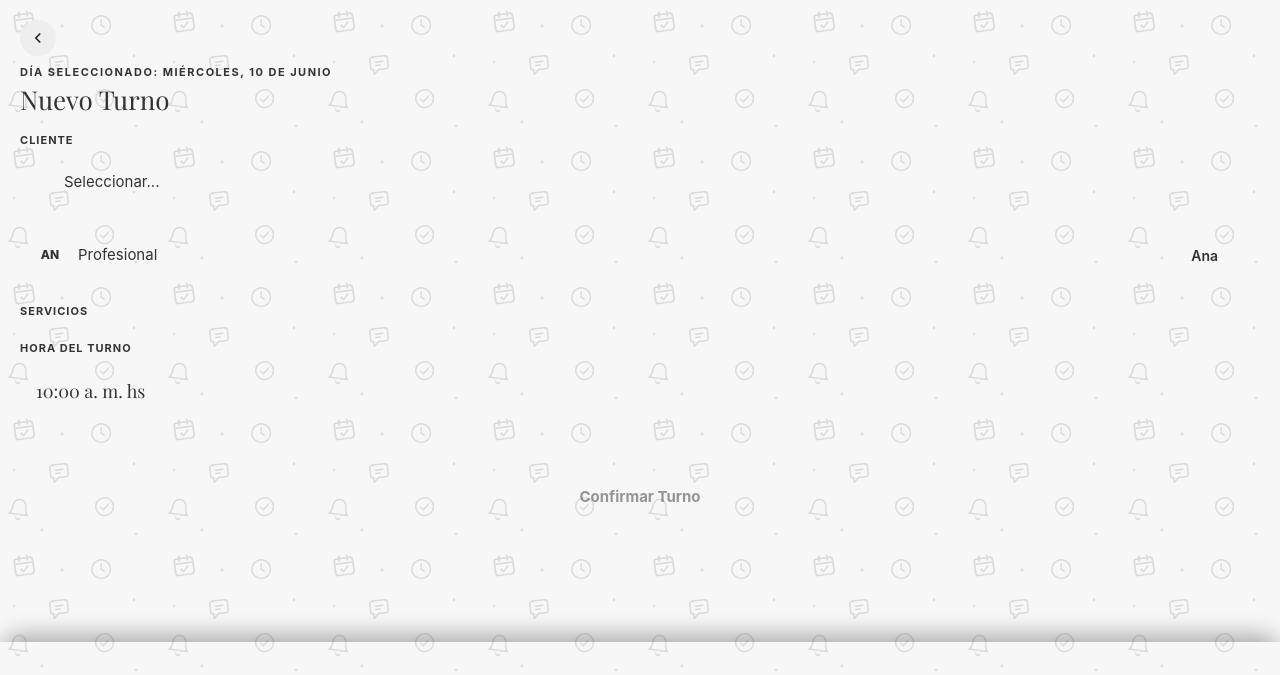
NuevoTurnoPage — combo › muestra cada servicio con su profesional y horario, sin pedir profesional ni mostrar jerga
Click the text "Seleccionar..." at (112, 181), box [64,172,160,191]
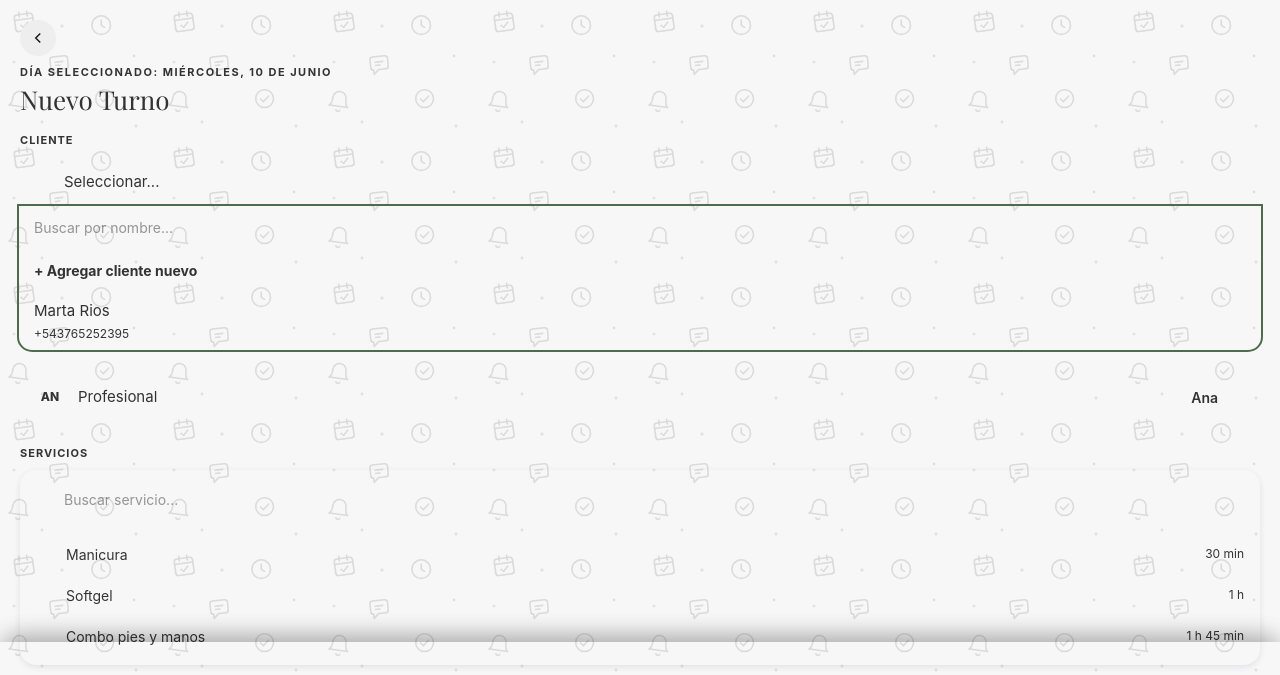
Click the text "Marta Rios" at (72, 311), box [34,301,110,320]
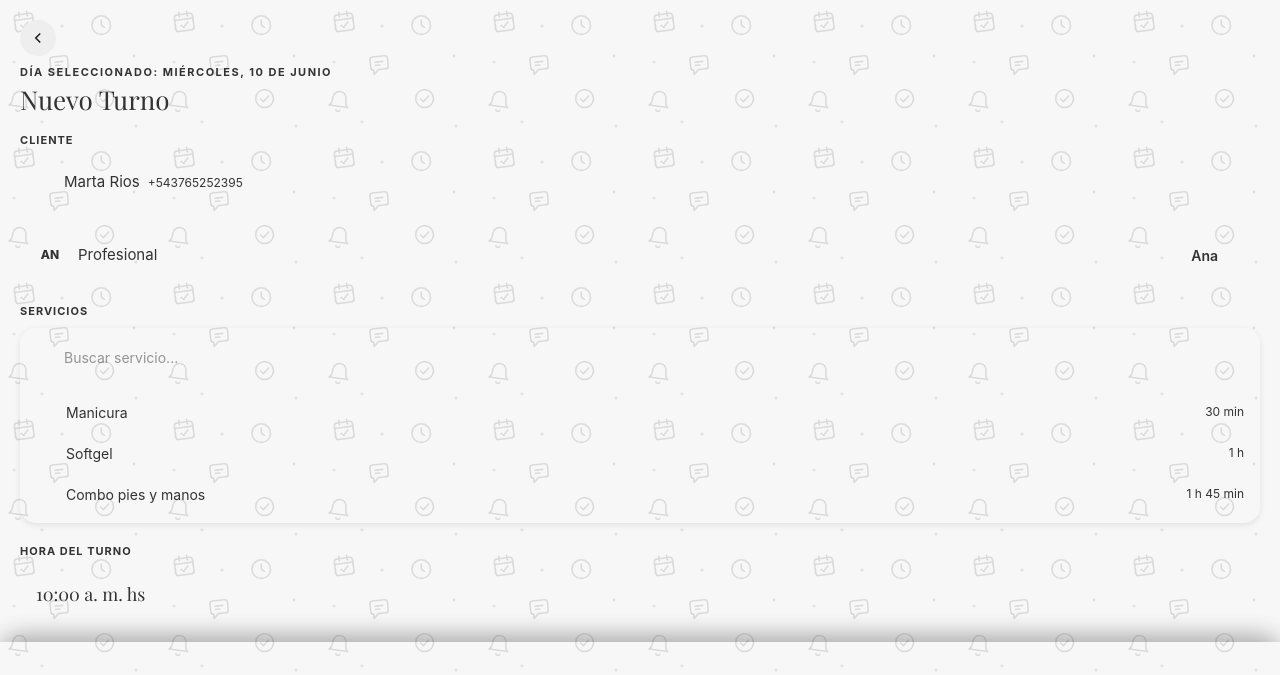
Click the button "Combo pies y manos 1 h 45 min" at (136, 494), box [28,474,1252,515]
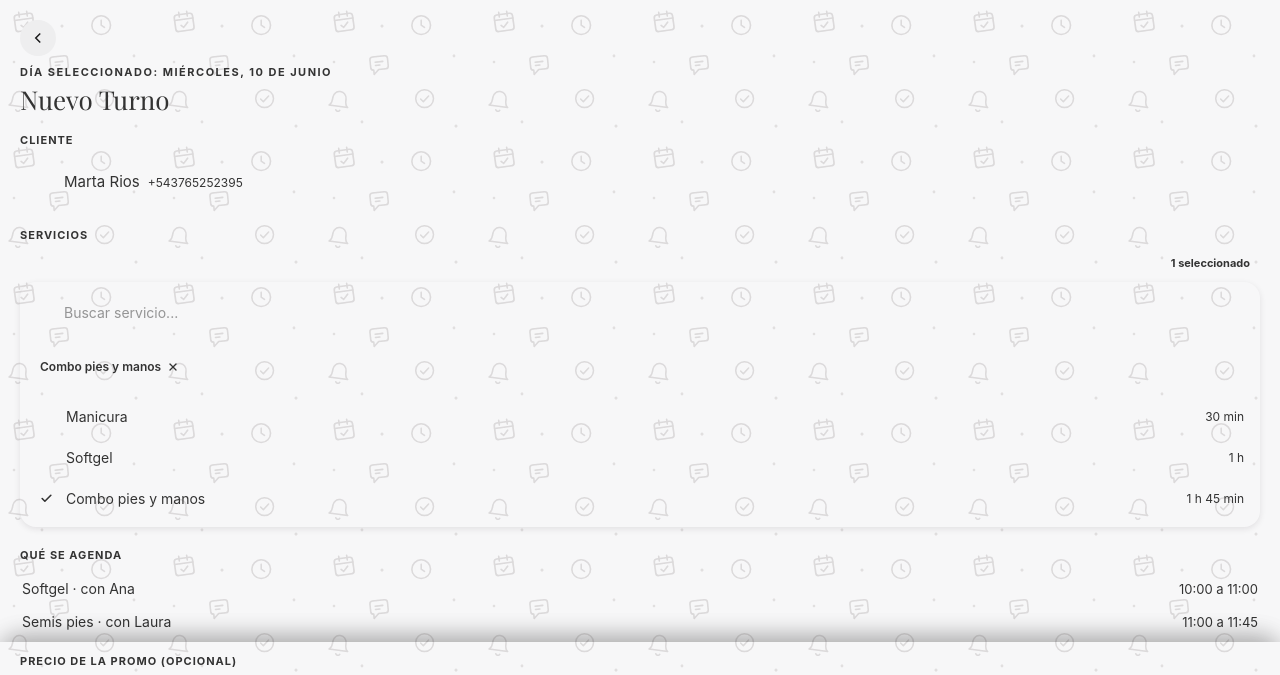
Expected: the text "Softgel · con Ana" is shown, [22,580,135,597]
Expected: the text "10:00 a 11:00" is shown, [1179,580,1258,599]
Expected: the text "Semis pies · con Laura" is shown, [22,613,171,630]
